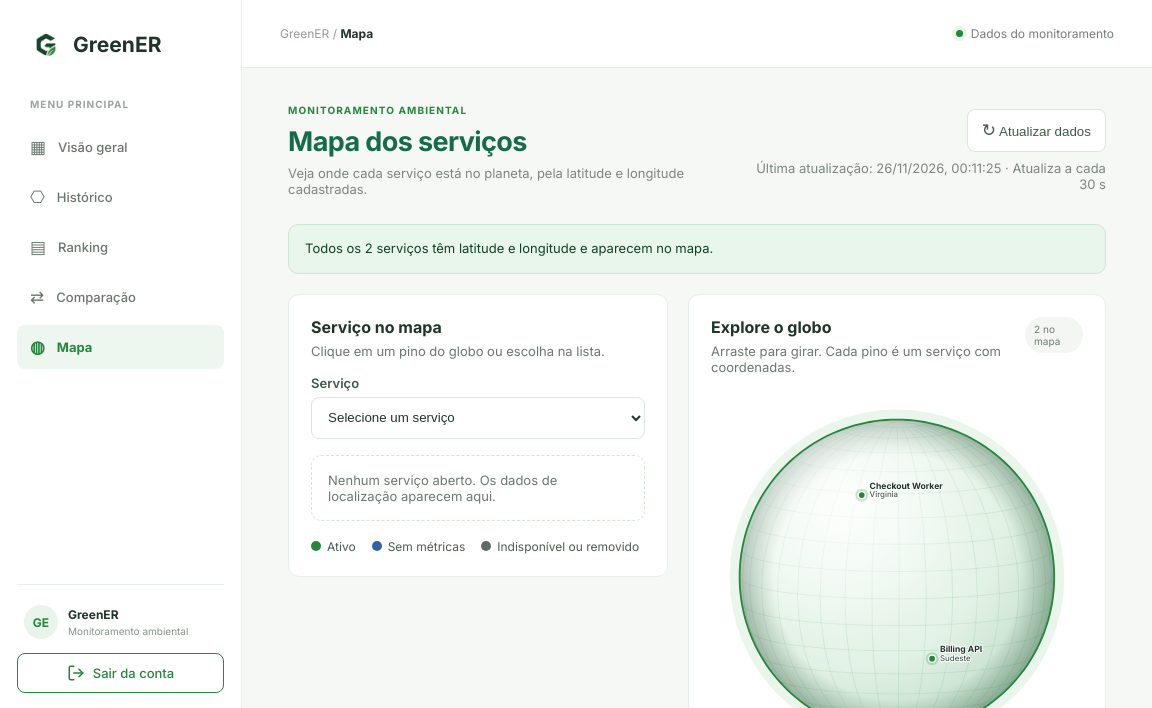
it: a lista de serviços é uma alternativa ao clique no globo
Select "Checkout Worker" in the dropdown labelled "Serviço": (478, 418) [311,396,645,438]
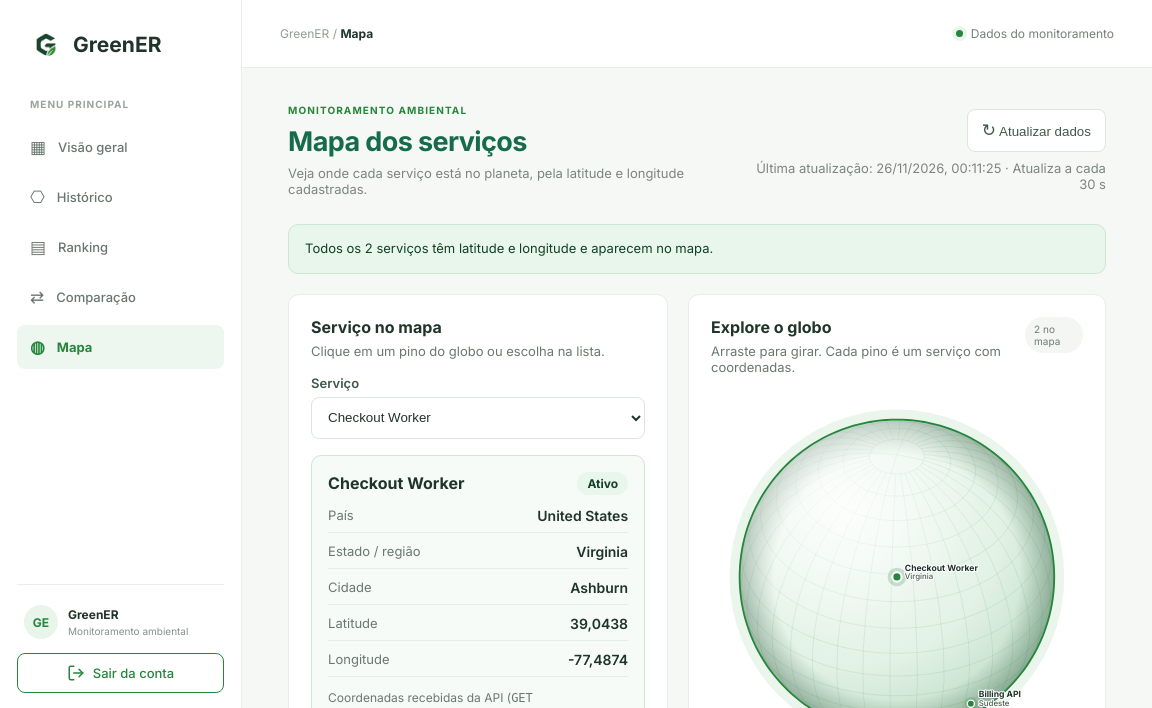
Expected: the heading "Checkout Worker" is shown, [328,473,465,493]
